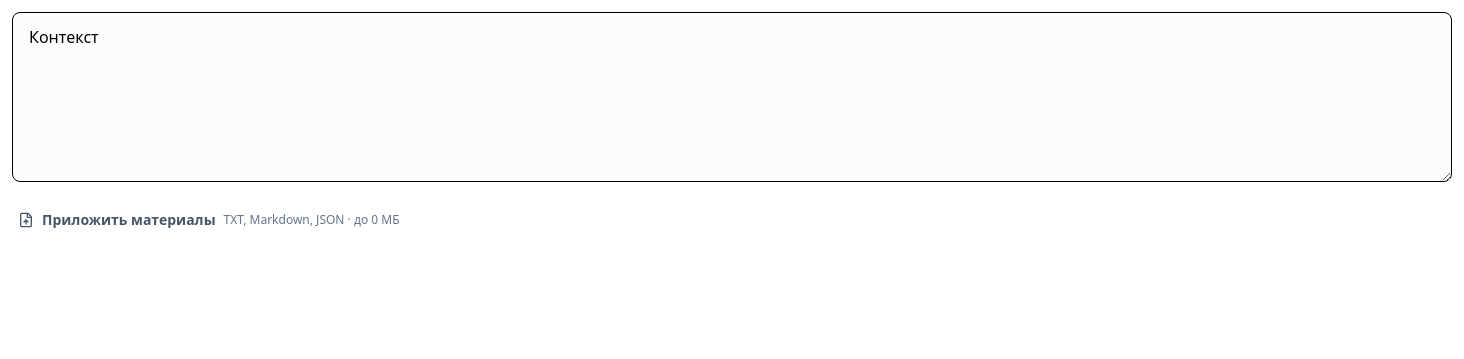
limits reference materials and supports the integration-unavailable state
Earlier steps of the test are not shown.
Later steps or results of the test are not shown.
Step 1. Click the text "Приложить материалы" → (129, 220), box top-left (42, 210), bottom-right (216, 230)
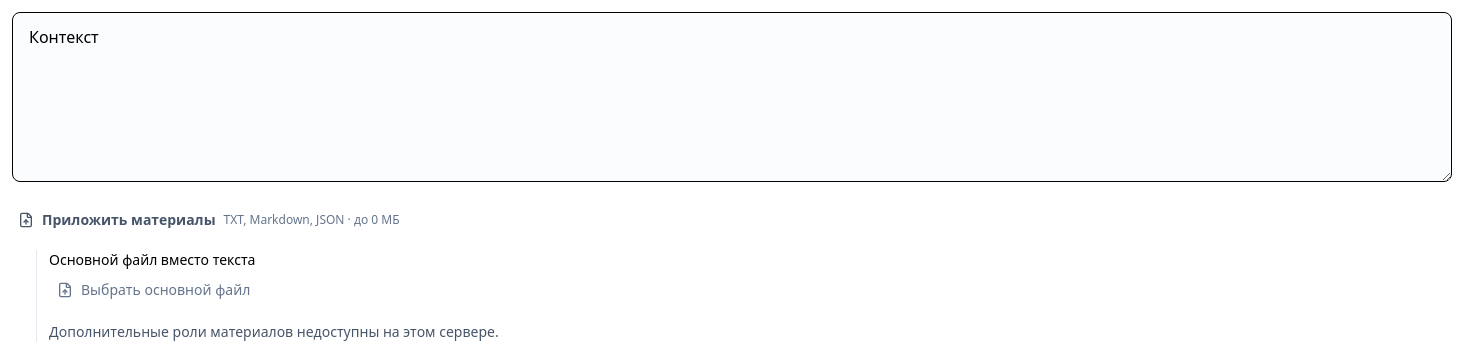
Expected: the text "Дополнительные роли материалов недоступны на этом сервере." is shown, top-left (49, 322), bottom-right (499, 341)
